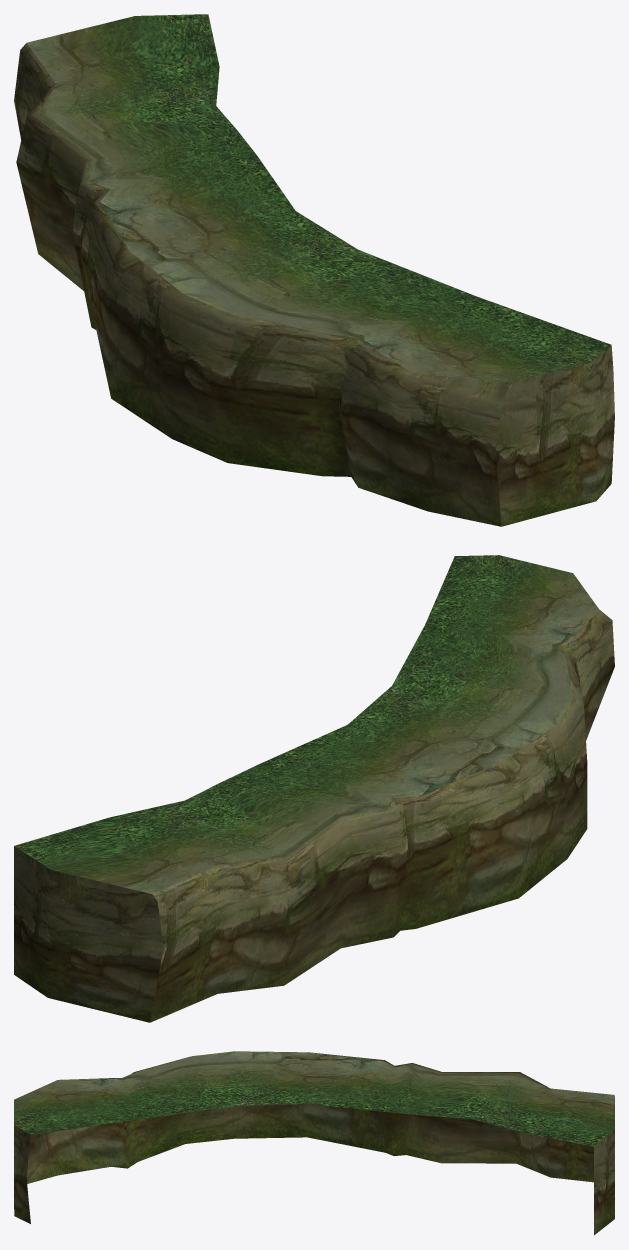
Rendered from Dingqingchuan_wujian_08_1.FBX.
3 views of the same model, one above another, from view 1: azimuth 30°, elevation 25°; view 2: azimuth 150°, elevation 25°; view 3: azimuth 270°, elevation 25° (orthographic). The views are drawn at different scales.
Parts seen in each view (by area): view 1: Object03; view 2: Object03; view 3: Object03.
Part boxes in pixels (left/top/right/bottom): Object03: left=14, top=14, right=614, bottom=526; Object03: left=14, top=555, right=614, bottom=1022; Object03: left=14, top=1051, right=614, bottom=1235.
Bounding box in the file's own units: 9.97 × 4.17 × 24.89.
